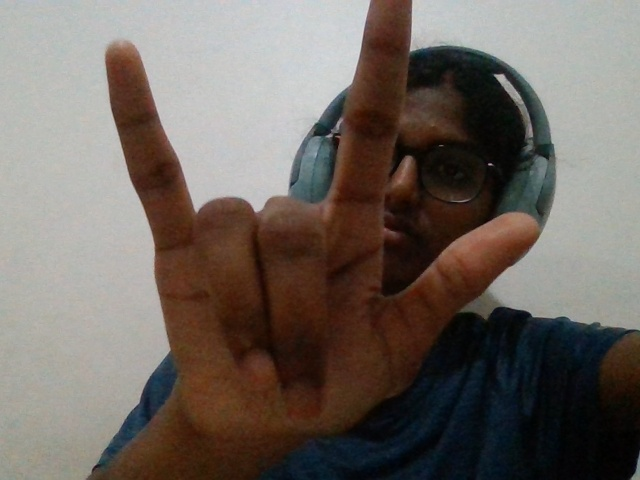I Love You: (61, 5, 554, 473)
